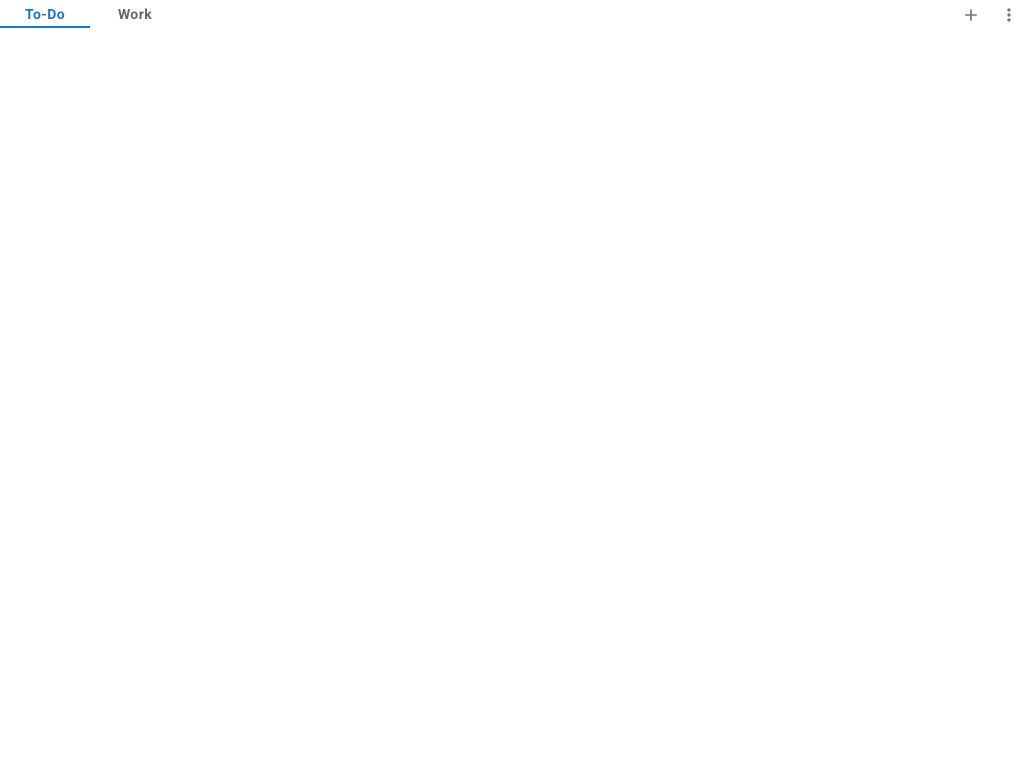
Test: shows the active list's task count in the delete dialog
Click the button named "List options".
click(1009, 15)  # box [994,0,1023,30]
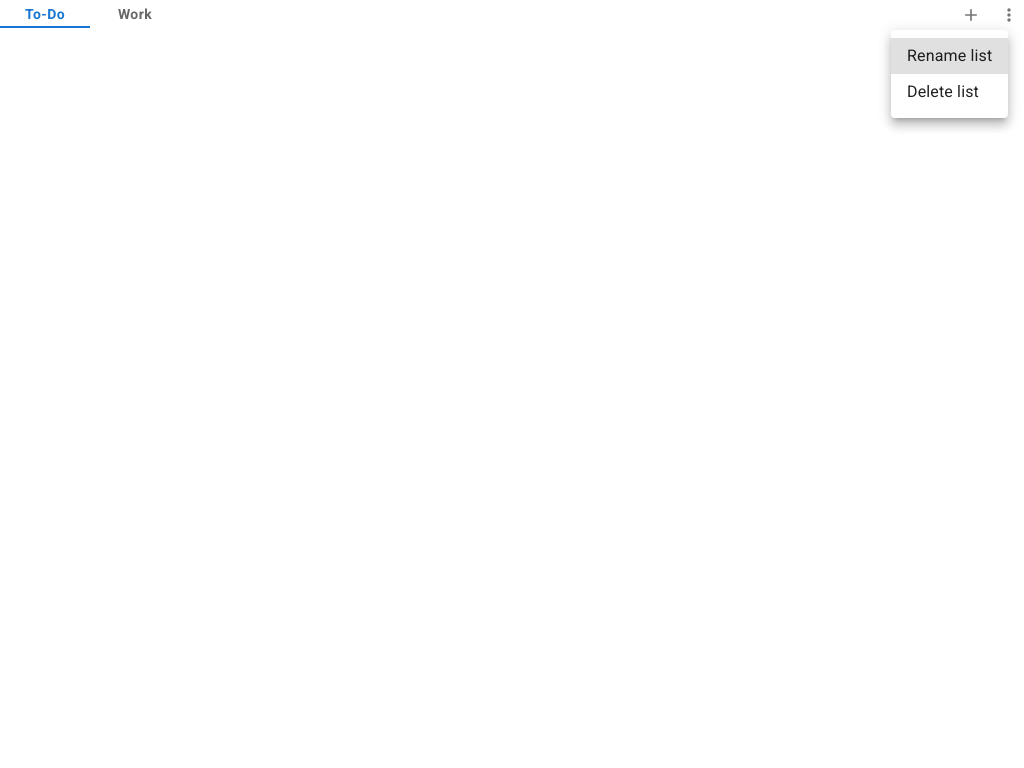
Click the menu item "Delete list".
click(943, 92)  # box [907,82,979,101]
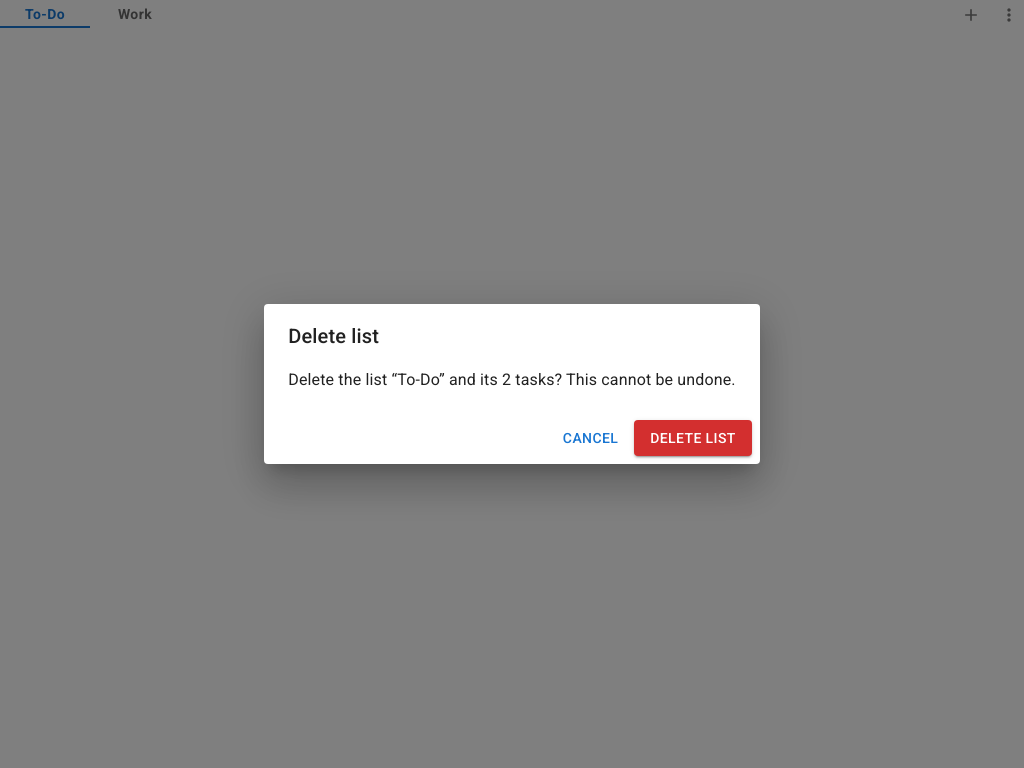
Expected: the dialog "Delete list" is shown, [264,304,760,464]
Expected: the text "Delete the list “To-Do” and its 2 tasks" is shown, [288,368,736,392]
